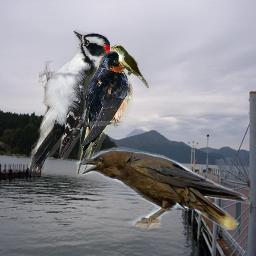Crow: (75, 146, 250, 230)
Cuckoo: (111, 44, 149, 88)
Swallow: (74, 49, 133, 175)
Woodpecker: (27, 29, 110, 176)
